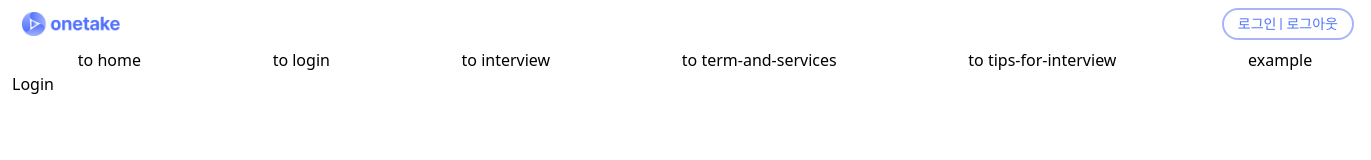
라우팅 테스트 › /tips-for-interview 경로로 이동할 수 있다.
The image size is (1371, 160).
Click the link "to tips-for-interview". click: (1042, 60)
box: [968, 48, 1116, 72]
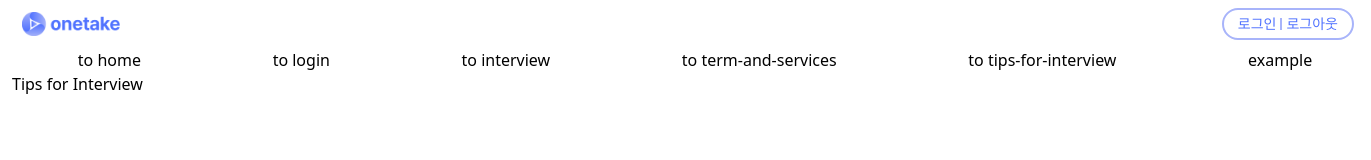
Expected: the heading reads "Tips for Interview", [12, 73, 143, 95]
